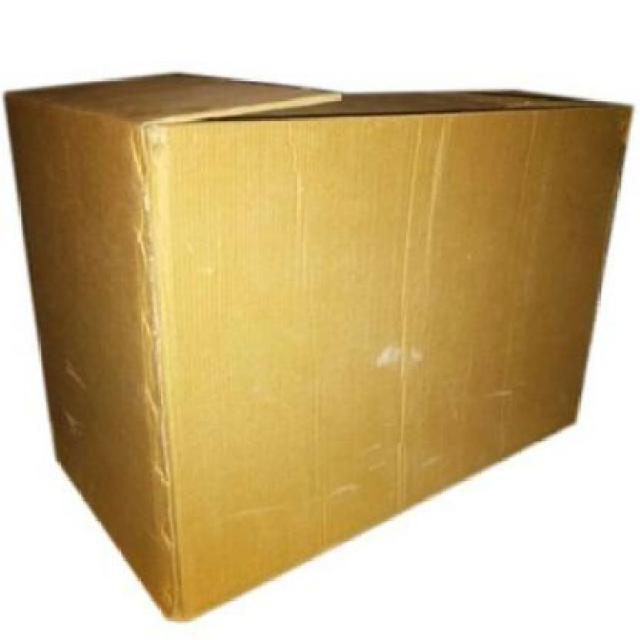box: (7, 69, 630, 622)
